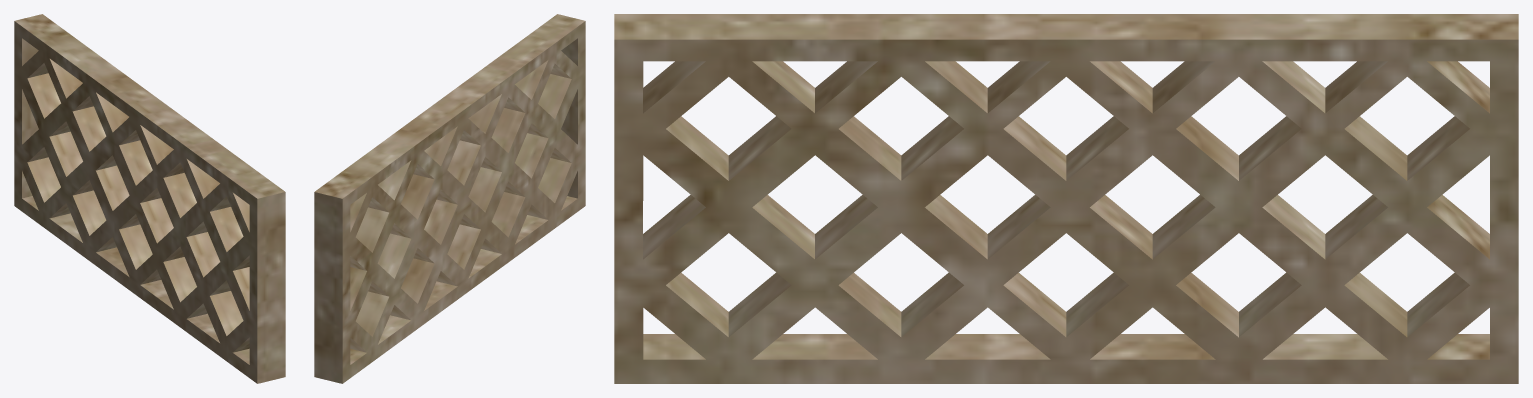
The model's file is pasted__stone_column_192.fbx.
3 views of the same model, side by side, from view 1: azimuth 30°, elevation 25°; view 2: azimuth 150°, elevation 25°; view 3: azimuth 270°, elevation 25° (orthographic). The views are drawn at different scales.
Visible parts, largest first — view 1: pasted__stone_column_192; view 2: pasted__stone_column_192; view 3: pasted__stone_column_192.
Boxes of the visible parts, x1=… form: pasted__stone_column_192: x1=14, y1=14, x2=285, y2=383; pasted__stone_column_192: x1=314, y1=14, x2=585, y2=383; pasted__stone_column_192: x1=614, y1=14, x2=1518, y2=383.
Bounding box in the file's own units: 3 × 44.75 × 18.8.
